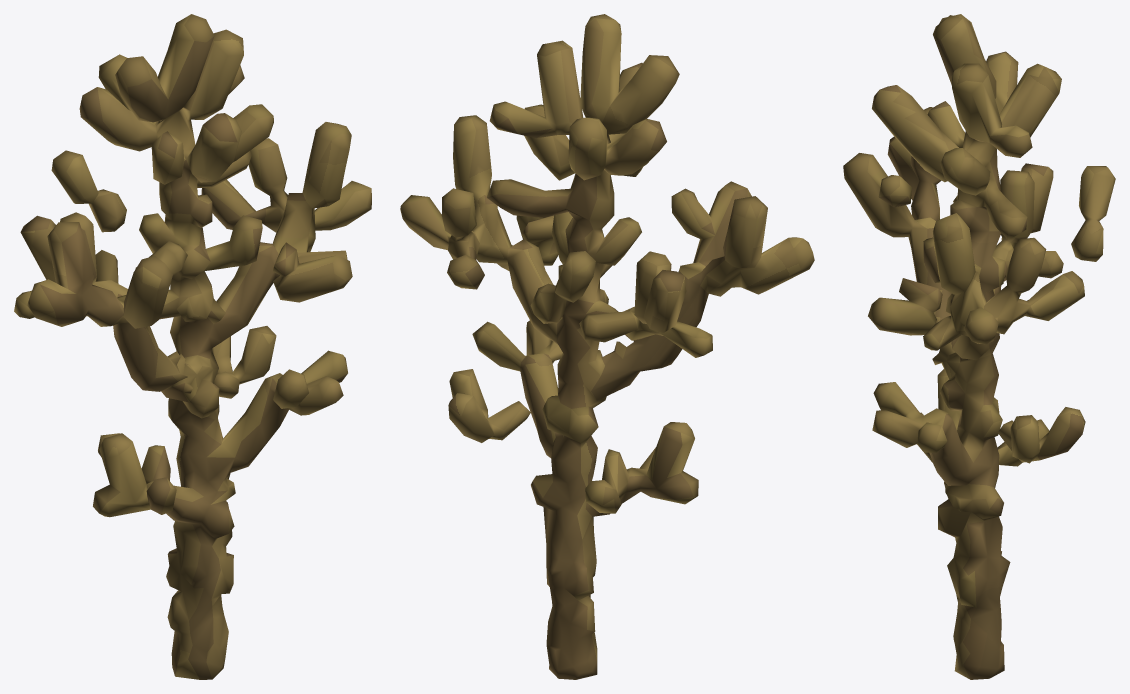
Rendered from cholla.glb.
3 views of the same model, side by side, from view 1: azimuth 30°, elevation 25°; view 2: azimuth 150°, elevation 25°; view 3: azimuth 270°, elevation 25° (orthographic). The views are drawn at different scales.
Visible parts, largest first — view 1: LO.001; view 2: LO.001; view 3: LO.001.
Boxes of the visible parts, x1,y1,x2,y2 form: LO.001: (14, 14, 371, 679); LO.001: (400, 14, 814, 679); LO.001: (843, 14, 1115, 679).
Bounding box in the file's own units: 1.2 × 2 × 0.7656.
1 material, 1 textured.
